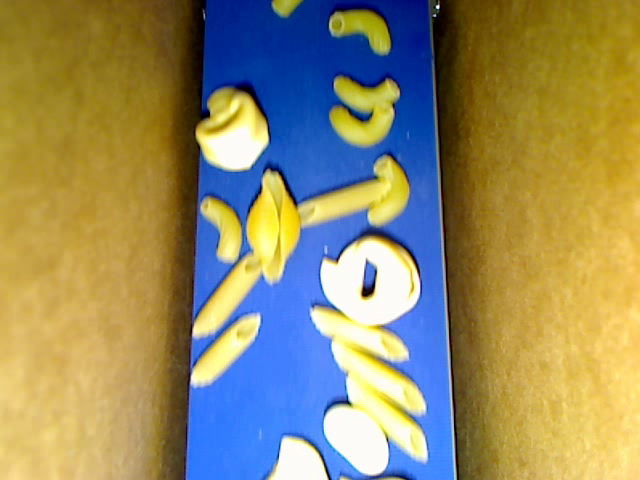elbow: (366, 153, 410, 227), (198, 194, 242, 264), (330, 100, 393, 148), (328, 9, 391, 55), (332, 75, 400, 113)
penne: (330, 340, 427, 417), (345, 375, 427, 462), (192, 251, 263, 337), (309, 304, 410, 362), (189, 313, 260, 386), (294, 177, 388, 227)
shell: (246, 169, 302, 285)
tortellini: (319, 235, 420, 326), (196, 87, 269, 171)
